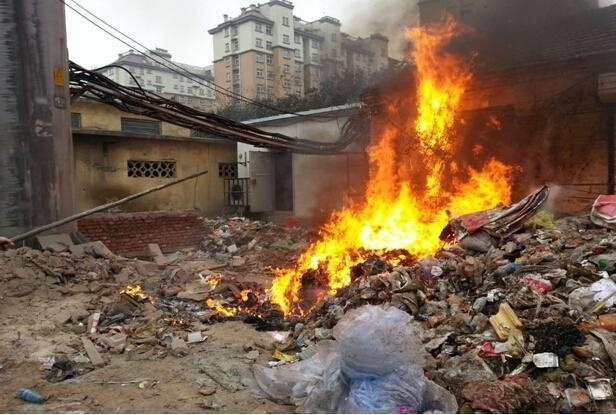fire: (296, 12, 521, 300), (121, 281, 146, 299)
